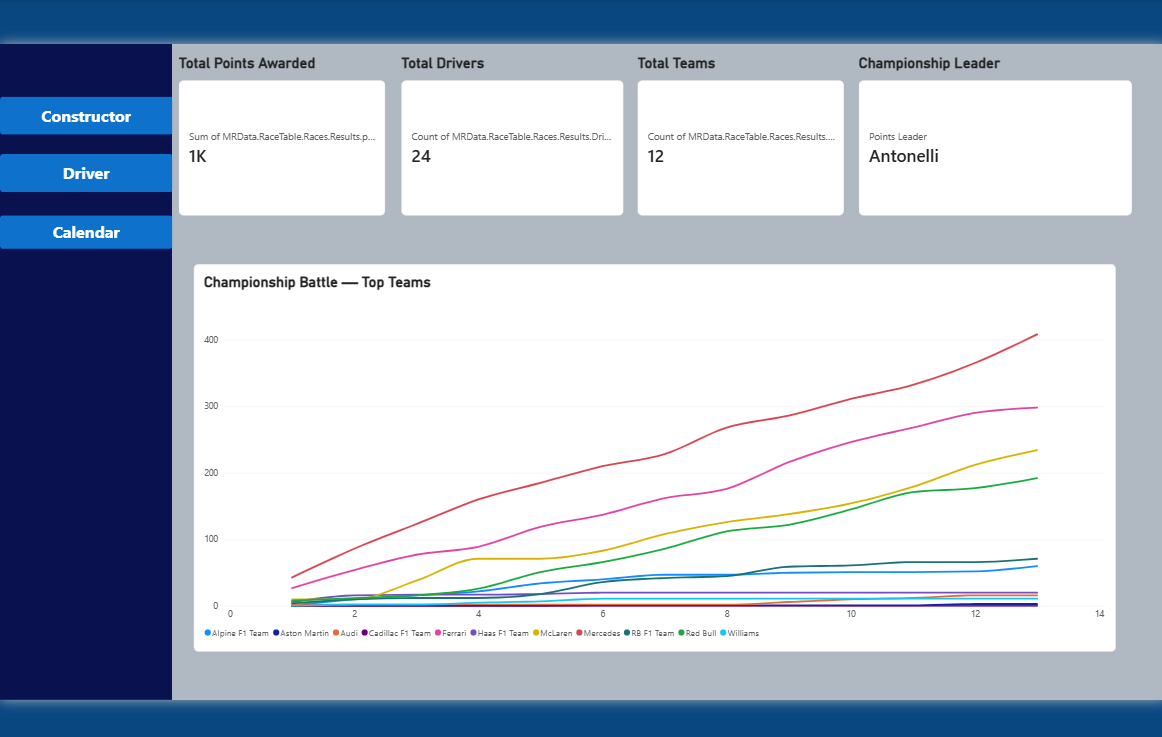

This screenshot's page, from the dashboard's own definition file:
{"tool":"powerbi","page":{"name":"Overview","canvas":[1920,1080],"ordinal":0},"visuals":[{"type":"shape","box":[0,0,283.3,1080],"z":0},{"type":"cardVisual","title":"Total Points Awarded","fields":{"Data":["Sum(Append1.MRData.RaceTable.Races.Results.points)"]},"box":[293.3,16.7,340,266.7],"z":1000},{"type":"cardVisual","title":"Total Drivers","fields":{"Data":["Count(Append1.MRData.RaceTable.Races.Results.Driver.familyName)"]},"box":[660,16.7,366.7,266.7],"z":2000},{"type":"cardVisual","title":"Total Teams","fields":{"Data":["Count(Append1.MRData.RaceTable.Races.Results.Constructor.name)"]},"box":[1050,16.7,340,266.7],"z":3000},{"type":"lineChart","title":"Championship Battle — Top Teams","fields":{"Category":["Append1.MRData.RaceTable.Races.round"],"Series":["Append1.MRData.RaceTable.Races.Results.Constructor.name"],"Y":["Append1.Cumulative Points"]},"box":[320,362,1518,638],"z":4000},{"type":"cardVisual","title":"Championship Leader","fields":{"Data":["Append1.Points Leader"]},"box":[1413.3,16.7,450,266.7],"z":5000},{"type":"actionButton","box":[0,86.4,284.2,62.9],"z":6000},{"type":"actionButton","box":[0,181.1,284.2,62.9],"z":7000},{"type":"actionButton","title":"Calendar","box":[0,282,284,55.6],"z":7001}]}

Visuals, with their boxes on the page's 1920x1080 design canvas (x1, y1, x2, y2). These are canvas units, not pixel positions in the 1162x737 screenshot, which may show the page scaled, cropped or inside an application window:
shape: rect(0, 0, 283, 1080)
"Total Points Awarded" cardVisual: rect(293, 17, 633, 283)
"Total Drivers" cardVisual: rect(660, 17, 1027, 283)
"Total Teams" cardVisual: rect(1050, 17, 1390, 283)
"Championship Battle — Top Teams" lineChart: rect(320, 362, 1838, 1000)
"Championship Leader" cardVisual: rect(1413, 17, 1863, 283)
actionButton: rect(0, 86, 284, 149)
actionButton: rect(0, 181, 284, 244)
"Calendar" actionButton: rect(0, 282, 284, 338)
